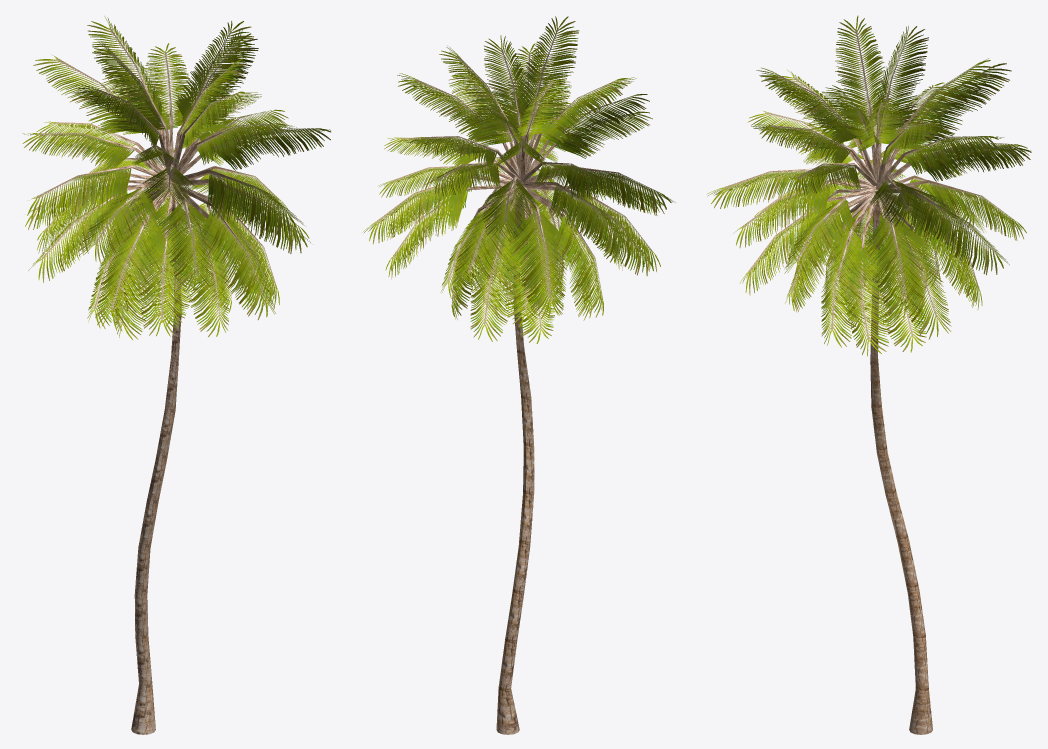
Rendered from palm.glb.
3 renders of one model, left to right at view 1: azimuth 30°, elevation 25°; view 2: azimuth 150°, elevation 25°; view 3: azimuth 270°, elevation 25°, orthographic. The views are drawn at different scales.
Parts seen in each view (by area): view 1: Tree_1, Tree_0; view 2: Tree_1, Tree_0; view 3: Tree_1, Tree_0.
Part boxes in pixels (bbox=[...]): Tree_1: bbox=[22, 16, 330, 339]; Tree_0: bbox=[77, 70, 261, 734]; Tree_1: bbox=[363, 16, 674, 343]; Tree_0: bbox=[416, 71, 620, 734]; Tree_1: bbox=[707, 15, 1031, 356]; Tree_0: bbox=[773, 72, 978, 734].
Bounding box in the file's own units: 66.62 × 156 × 67.58.
Materials: 2 (2 with a texture image).
